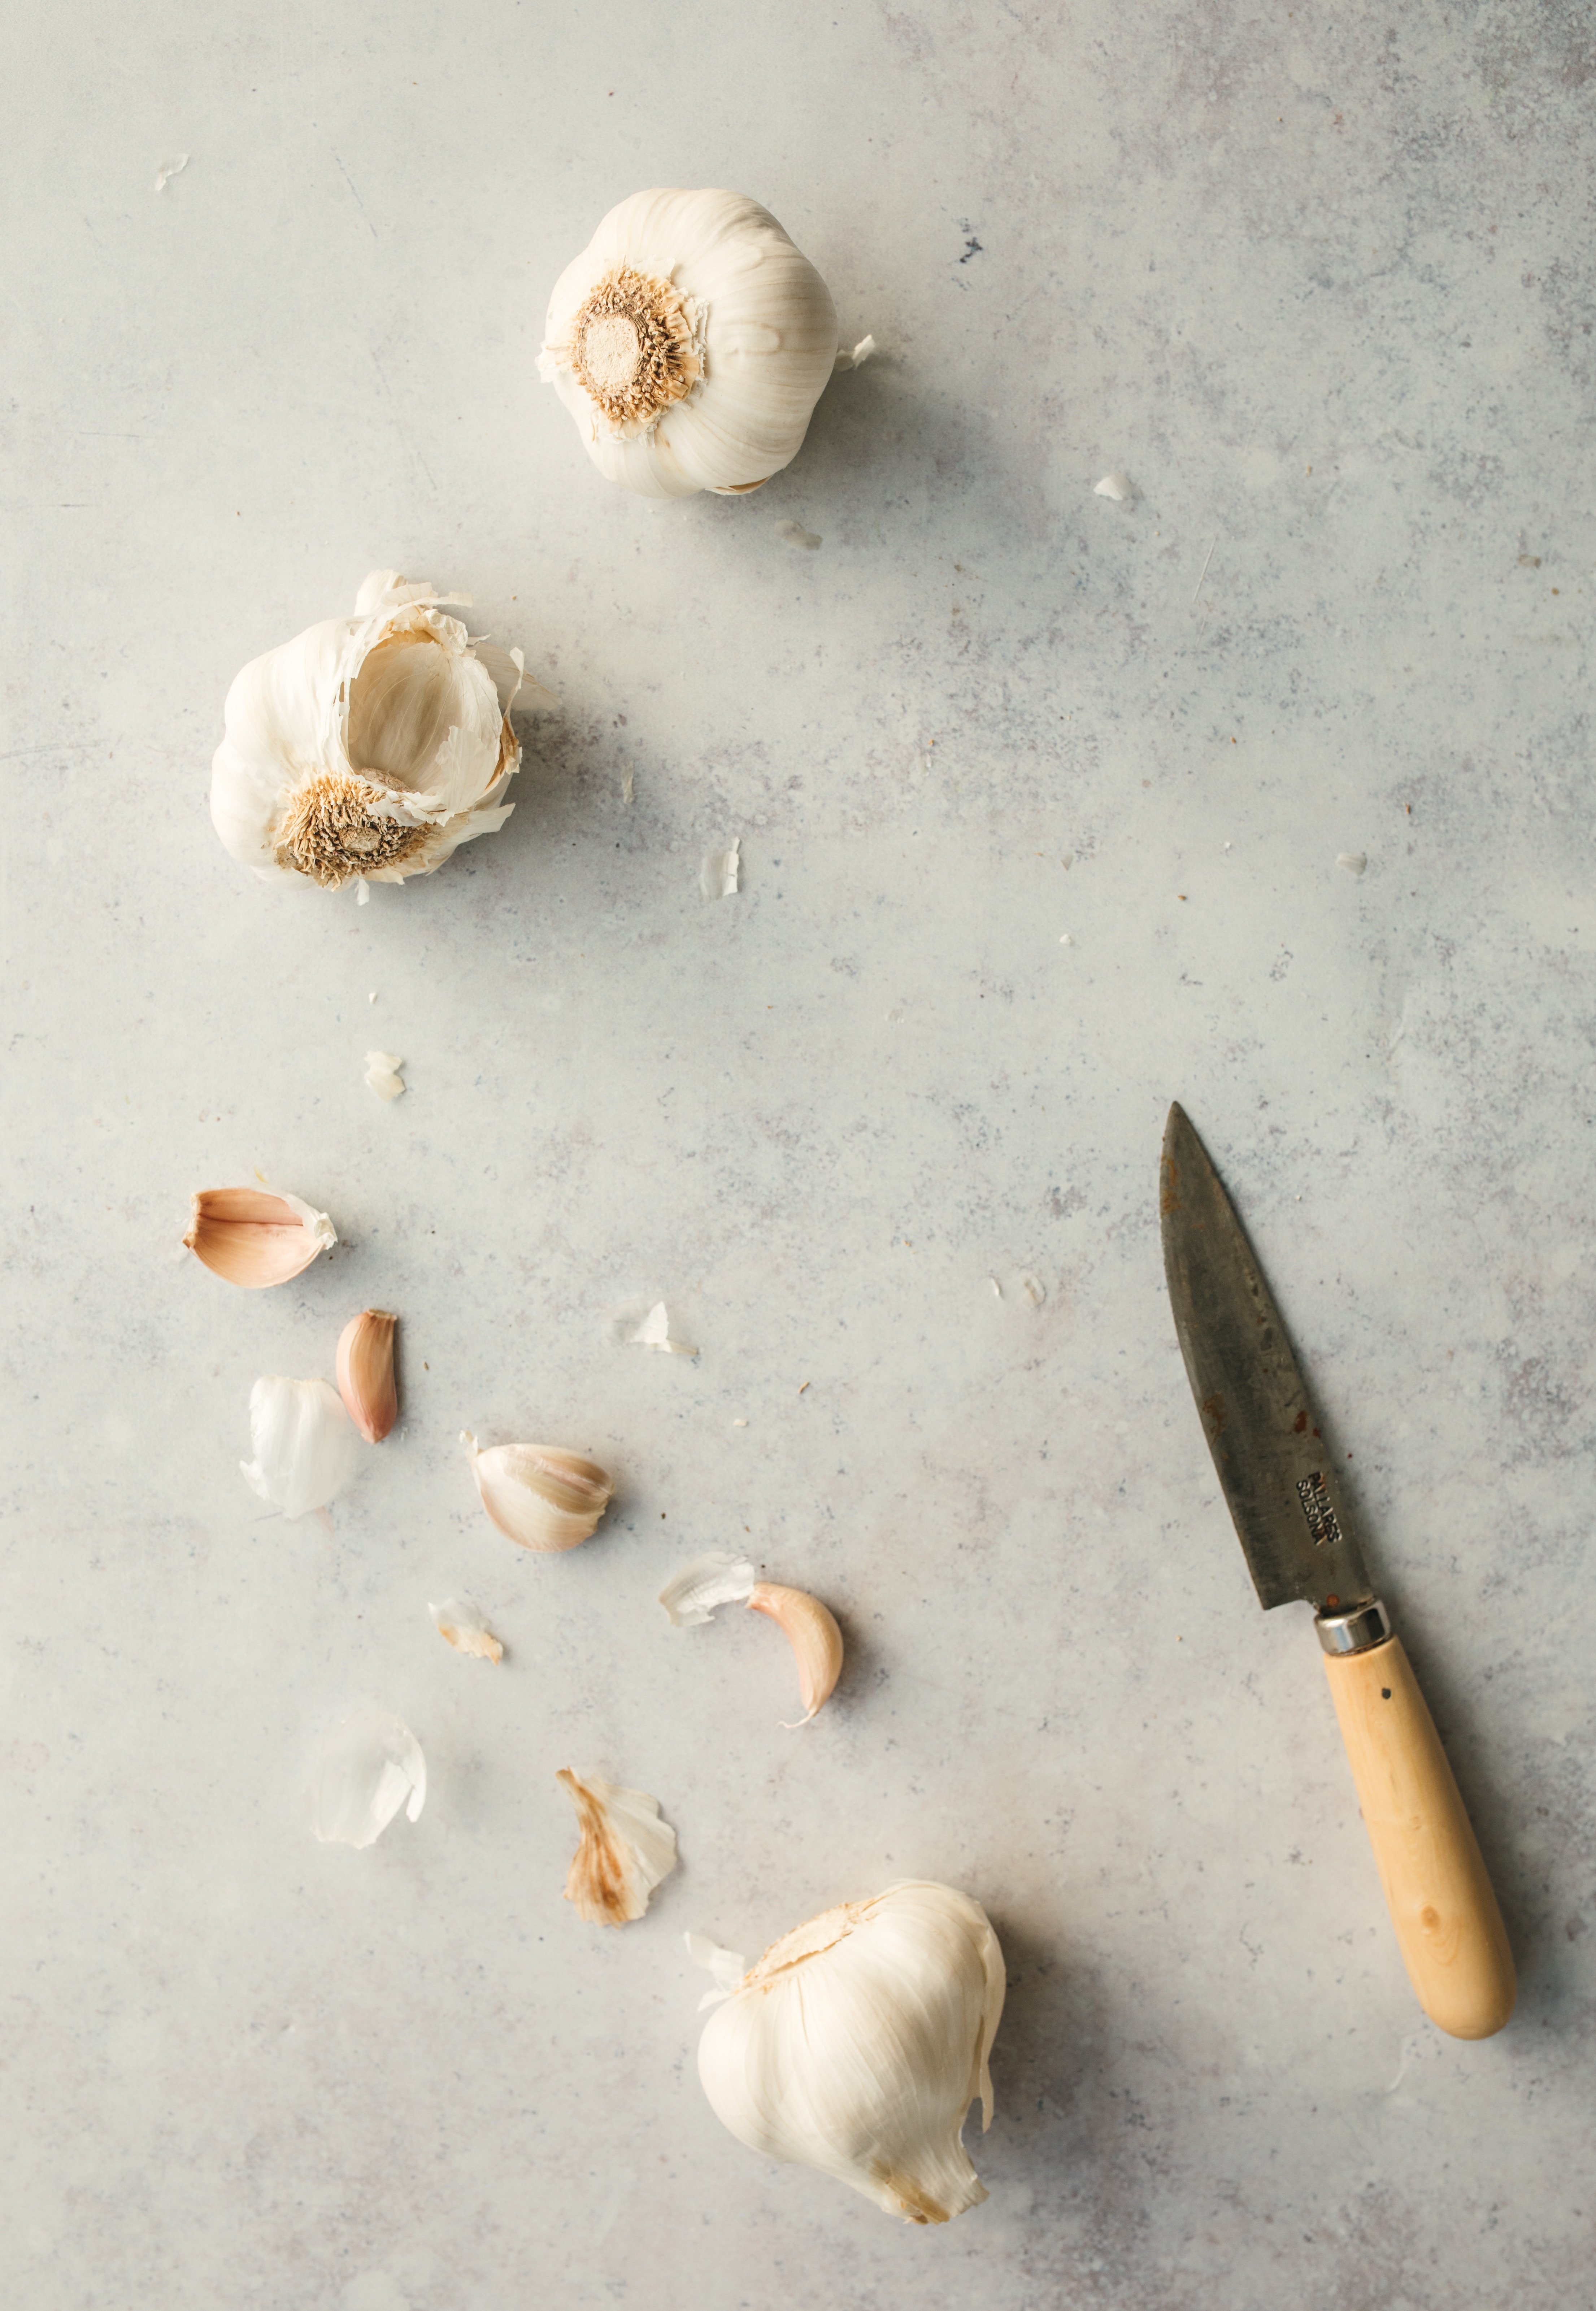knife: (1131, 1091, 1559, 2153)
